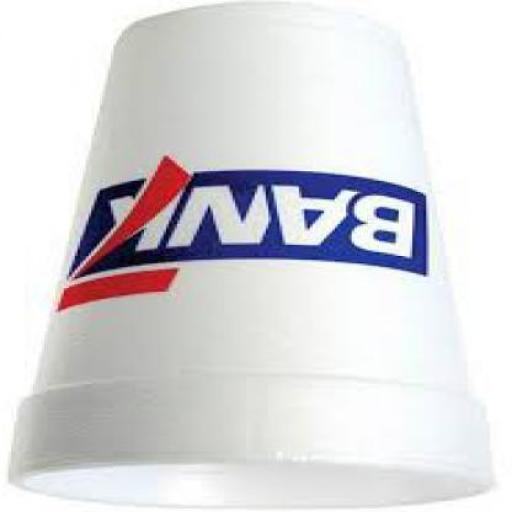paper: (11, 2, 499, 510)
